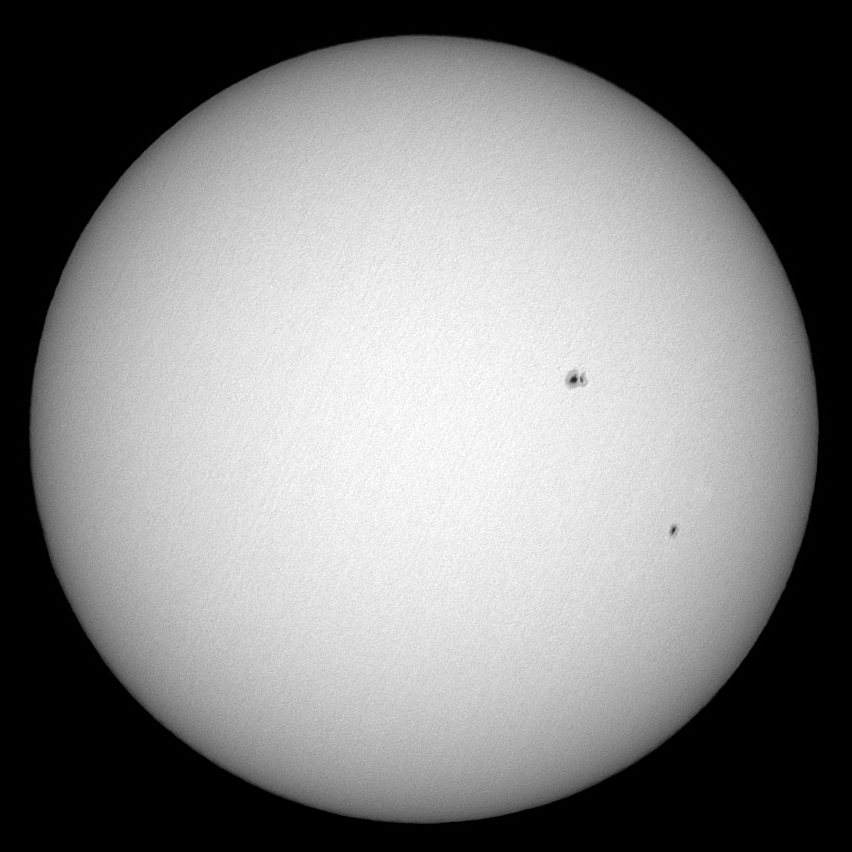sunspot: (562, 363, 590, 390), (665, 521, 682, 540)
